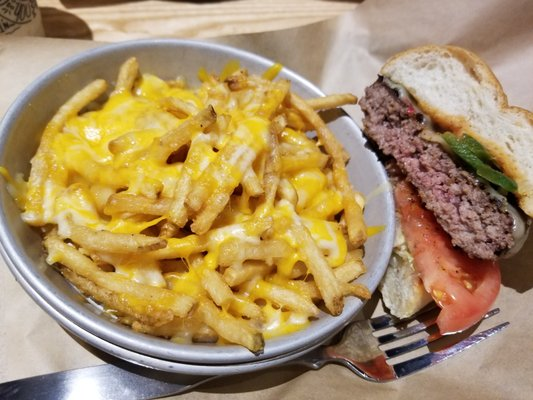soup: (358, 44, 533, 336)
